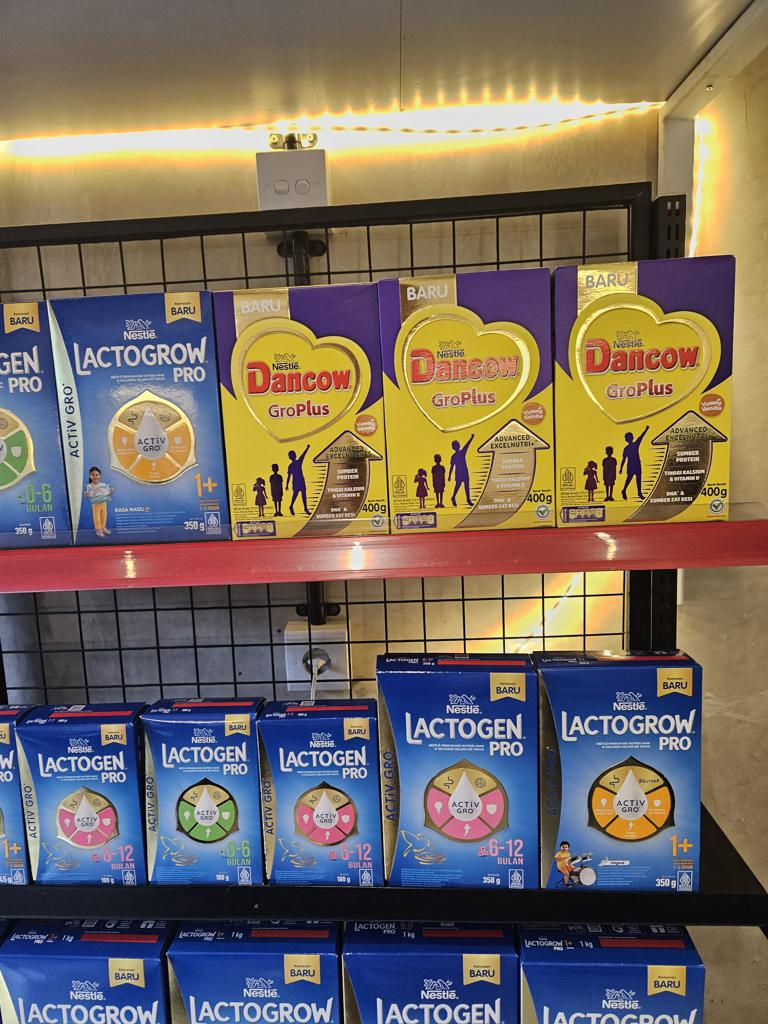LACTOGEN PRO 0-6 mo 40x180g ID: (131, 709, 267, 887)
LACTOGEN PRO 6-12 mo 24x350g ID: (376, 665, 537, 887)
LACTOGEN PRO 6-12 mo 40x180g ID: (13, 719, 147, 886), (257, 715, 383, 886)
LACTOGROW PRO 1+ Honey 24x350g ID: (42, 286, 236, 547)
